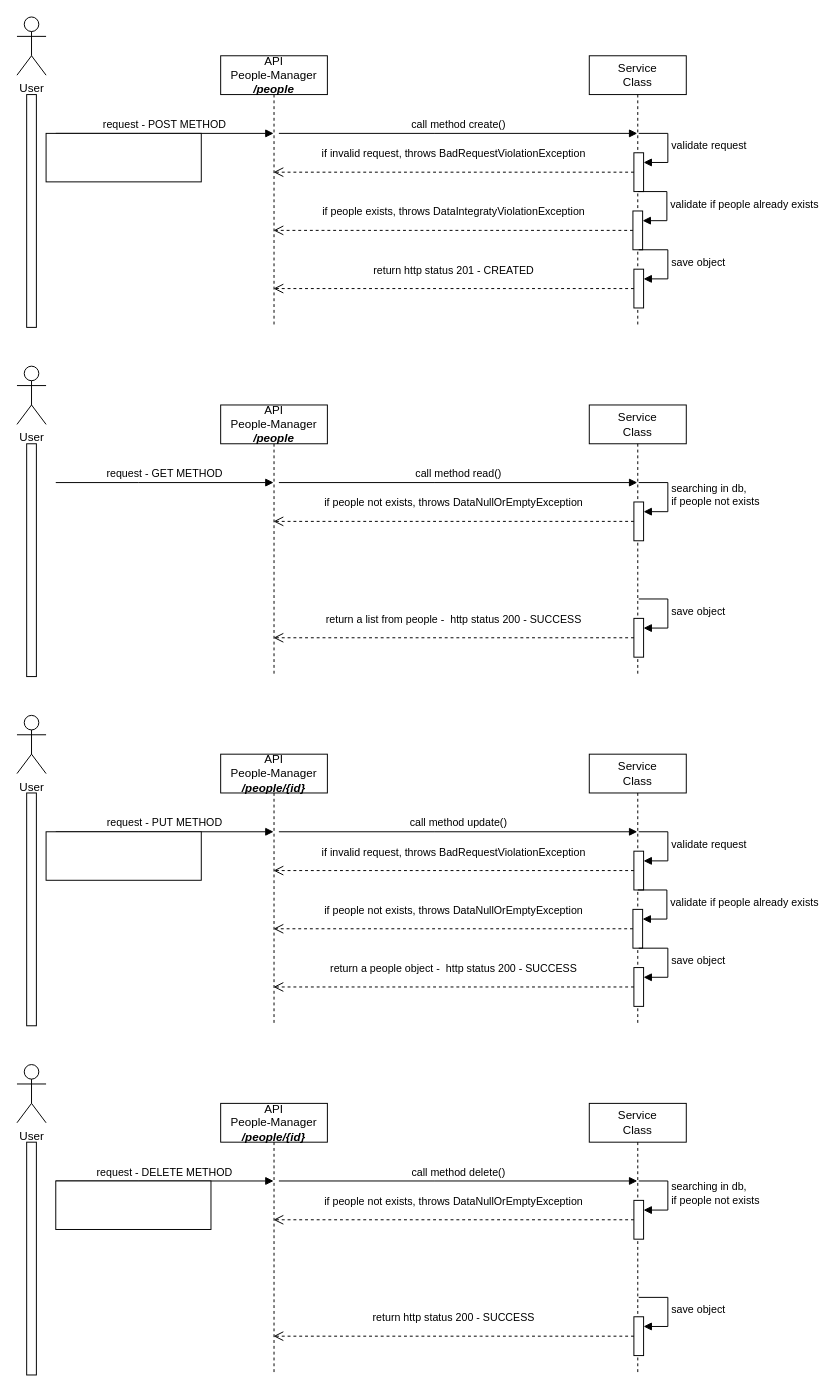
Image size: 836x1392. Some labels were removed from this diagram. The centre of each missing label's shape, as x and y in pixels:
"Long id" belongs at (133,1204).
"Long id, PeopleManagementRequest" belongs at (123,855).
"PeopleManagementRequest" belongs at (123,157).
